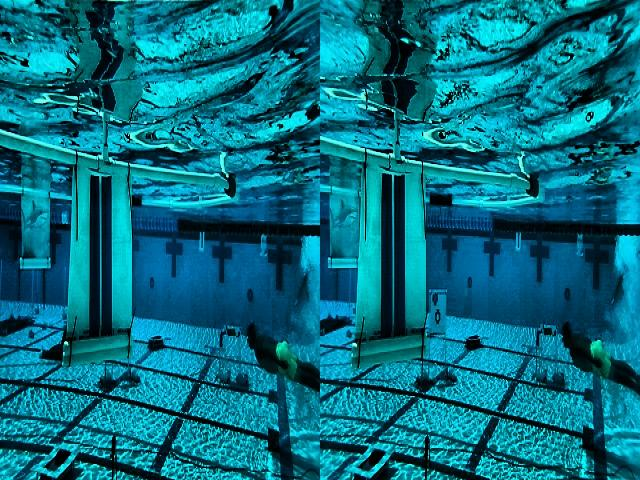octagon_table: (217, 326, 249, 391), (531, 326, 560, 385)
octagon_top: (0, 123, 239, 372), (320, 136, 545, 369)
shark: (18, 191, 49, 270), (329, 190, 359, 264)
